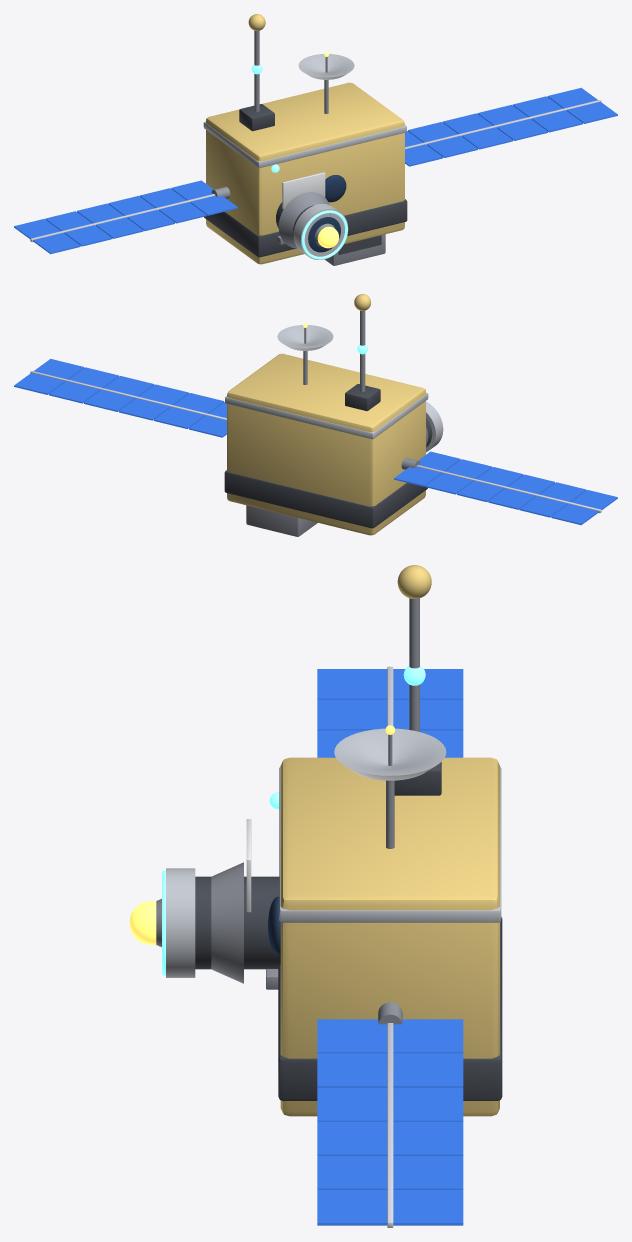
Rendered from satellite.glb.
3 renders of one model, top to bottom at view 1: azimuth 30°, elevation 25°; view 2: azimuth 150°, elevation 25°; view 3: azimuth 270°, elevation 25°, orthographic. The views are drawn at different scales.
Visible parts, largest first — view 1: body, wing_R, wing_L, body_band, inst_spec, inst_imager, inst_mag, body_trim, dish, battery_box, lens, battery_vent; view 2: body, wing_R, wing_L, body_band, inst_mag, body_trim, dish, battery_box, inst_imager; view 3: body, wing_R, wing_L, inst_imager, inst_spec, dish, body_band, inst_mag, body_trim.
Boxes of the visible parts, bbox=[...] form: body: bbox=[206, 82, 404, 264]; wing_R: bbox=[405, 87, 617, 166]; wing_L: bbox=[14, 180, 237, 254]; body_band: bbox=[204, 199, 407, 257]; inst_spec: bbox=[278, 172, 338, 248]; inst_imager: bbox=[276, 202, 348, 259]; inst_mag: bbox=[239, 14, 274, 131]; body_trim: bbox=[203, 121, 406, 168]; dish: bbox=[298, 52, 354, 113]; battery_box: bbox=[325, 234, 385, 265]; lens: bbox=[325, 175, 346, 202]; battery_vent: bbox=[338, 235, 381, 254]; body: bbox=[227, 353, 425, 535]; wing_R: bbox=[14, 359, 226, 437]; wing_L: bbox=[394, 451, 617, 525]; body_band: bbox=[224, 470, 427, 528]; inst_mag: bbox=[345, 294, 380, 410]; body_trim: bbox=[225, 392, 428, 439]; dish: bbox=[277, 323, 333, 384]; battery_box: bbox=[246, 505, 317, 536]; inst_imager: bbox=[426, 401, 443, 452]; body: bbox=[280, 757, 499, 1116]; wing_R: bbox=[317, 1002, 463, 1227]; wing_L: bbox=[317, 666, 463, 757]; inst_imager: bbox=[162, 868, 280, 989]; inst_spec: bbox=[129, 819, 251, 983]; dish: bbox=[334, 725, 446, 848]; body_band: bbox=[278, 917, 502, 1100]; inst_mag: bbox=[394, 565, 441, 795]; body_trim: bbox=[279, 766, 501, 922].
Bounding box in the file's own units: 54 × 22.9 × 15.3.
